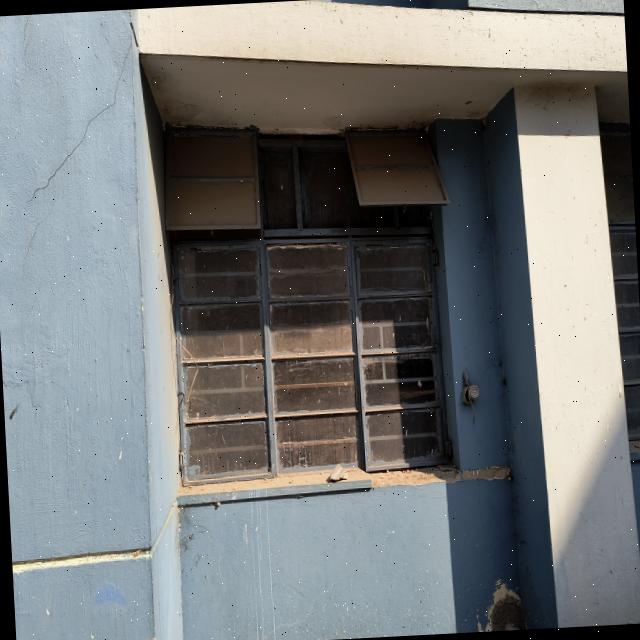Crack: (26, 34, 132, 202)
Scaling: (366, 462, 513, 488)
